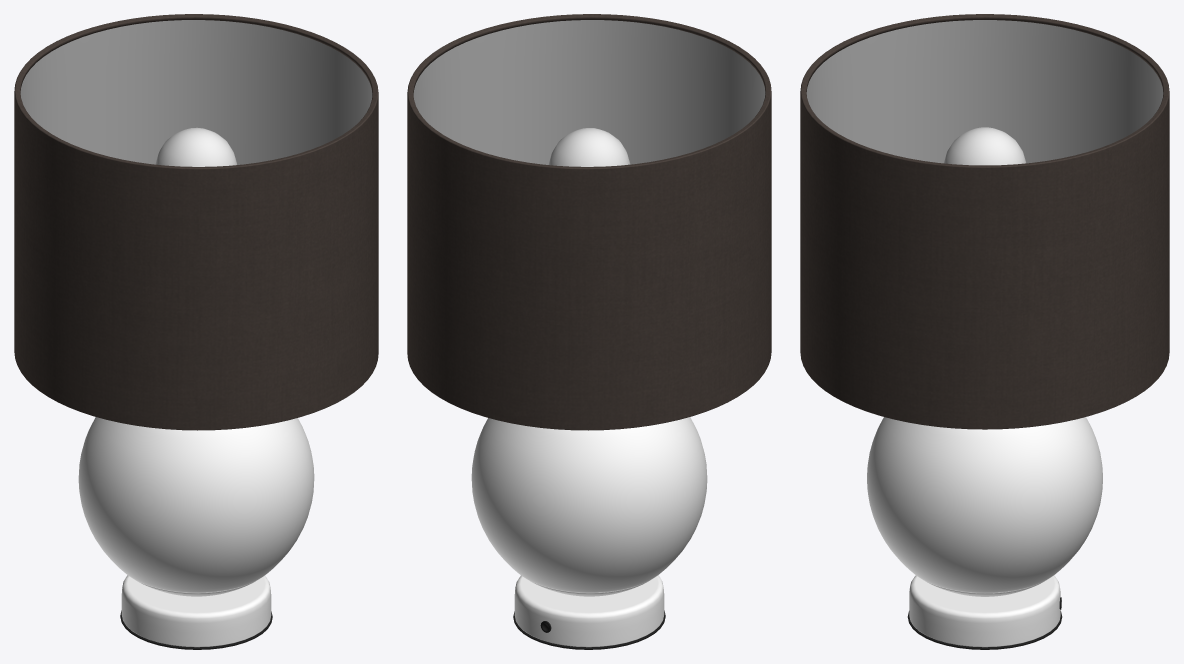
Rendered from desklamp-ghost.glb.
The picture shows the model from 3 angles, left to right: view 1: azimuth 30°, elevation 25°; view 2: azimuth 150°, elevation 25°; view 3: azimuth 270°, elevation 25°; orthographic projection.
Parts seen in each view (by area): view 1: lamp, lamp_iridescence, lamp_transmission; view 2: lamp, lamp_iridescence, lamp_transmission; view 3: lamp, lamp_iridescence, lamp_transmission.
Part boxes in pixels (box(x1,y1,x2,y2)): lamp: box(14, 14, 378, 649); lamp_iridescence: box(20, 20, 372, 164); lamp_transmission: box(78, 417, 314, 592); lamp: box(407, 14, 771, 649); lamp_iridescence: box(413, 20, 765, 164); lamp_transmission: box(471, 417, 707, 592); lamp: box(800, 14, 1169, 649); lamp_iridescence: box(806, 20, 1163, 163); lamp_transmission: box(867, 417, 1102, 593).
Size of the model in its own units: 0.2973 by 0.4761 by 0.3019.
Materials: 1 (1 with a texture image).
